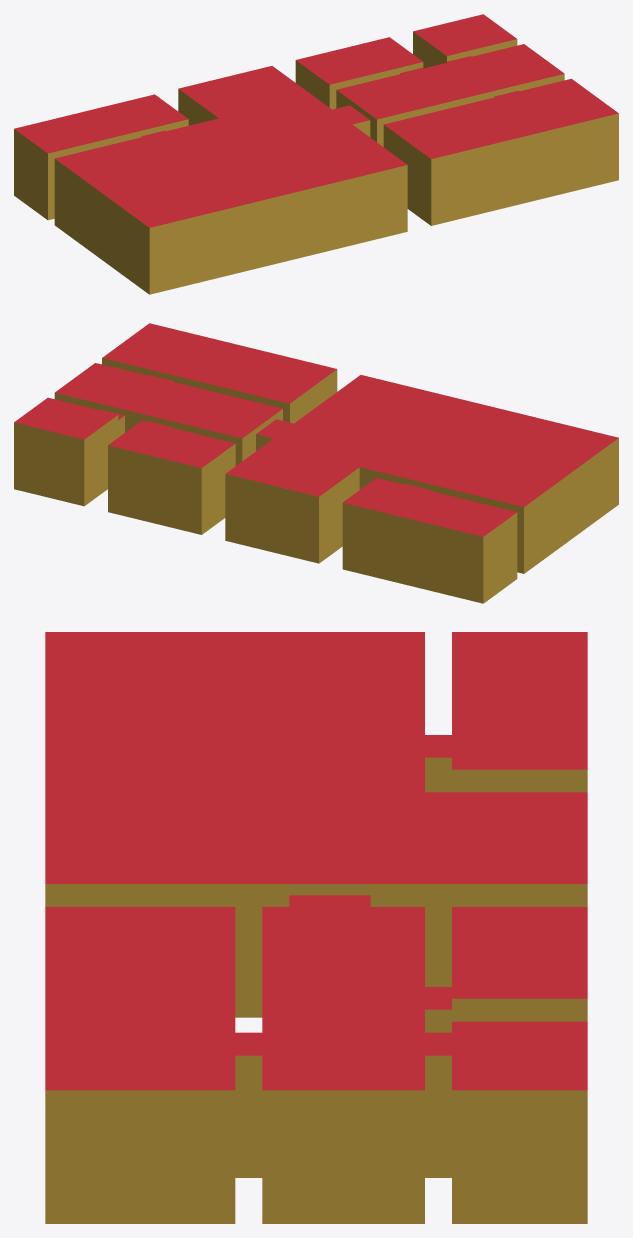
File: HorrorApartment.fbx
3 views of the same model, one above another, from view 1: azimuth 30°, elevation 25°; view 2: azimuth 150°, elevation 25°; view 3: azimuth 270°, elevation 25° (orthographic). The views are drawn at different scales.
Parts seen in each view (by area): view 1: Apartment; view 2: Apartment; view 3: Apartment.
Boxes of the visible parts, x1,y1,x2,y2 form: Apartment: (14, 14, 618, 294); Apartment: (14, 323, 618, 603); Apartment: (45, 632, 587, 1223).
Size of the model in its own units: 3636 by 495 by 1818.
